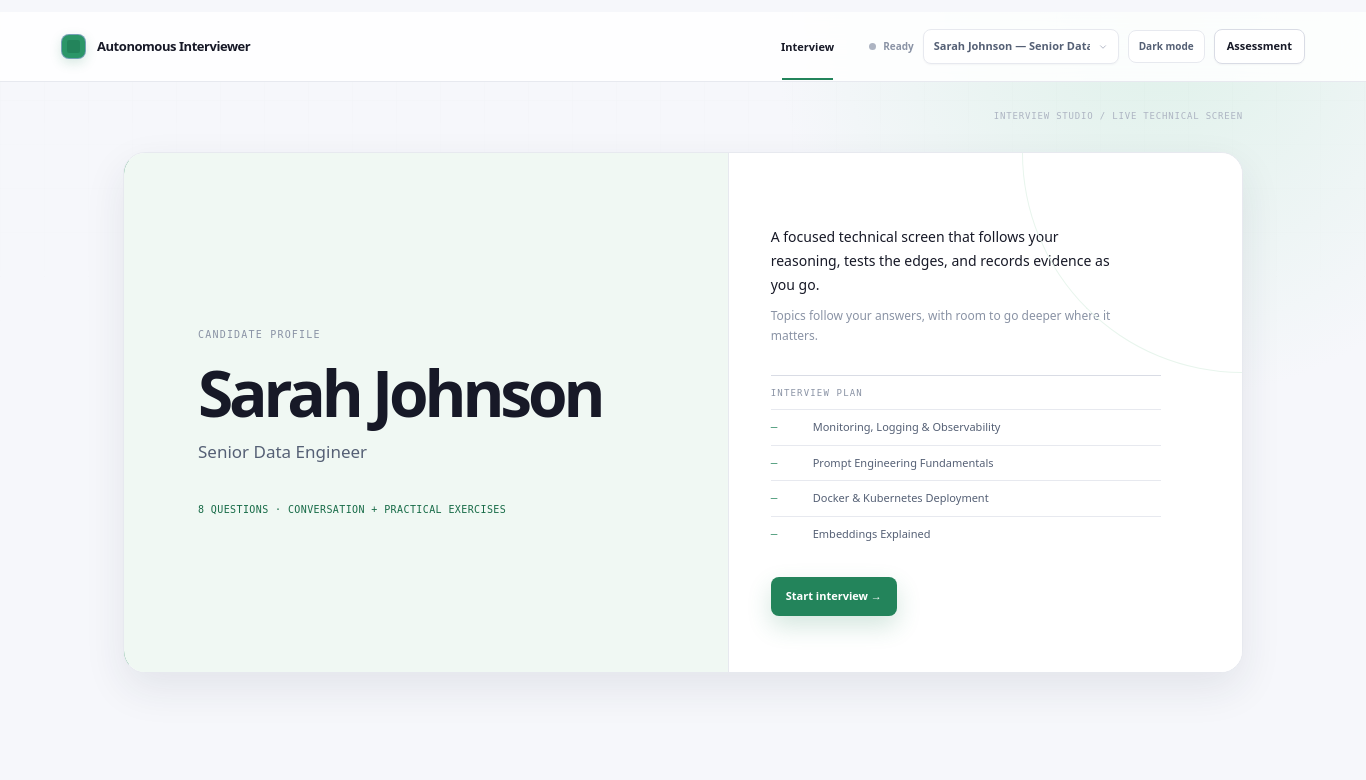
Scenario: Interview page controls › shows a start error on the briefing screen
The width and height of the screenshot is (1366, 780).
Click the button "Start interview →" at [834, 597], box [771,577,897,616]
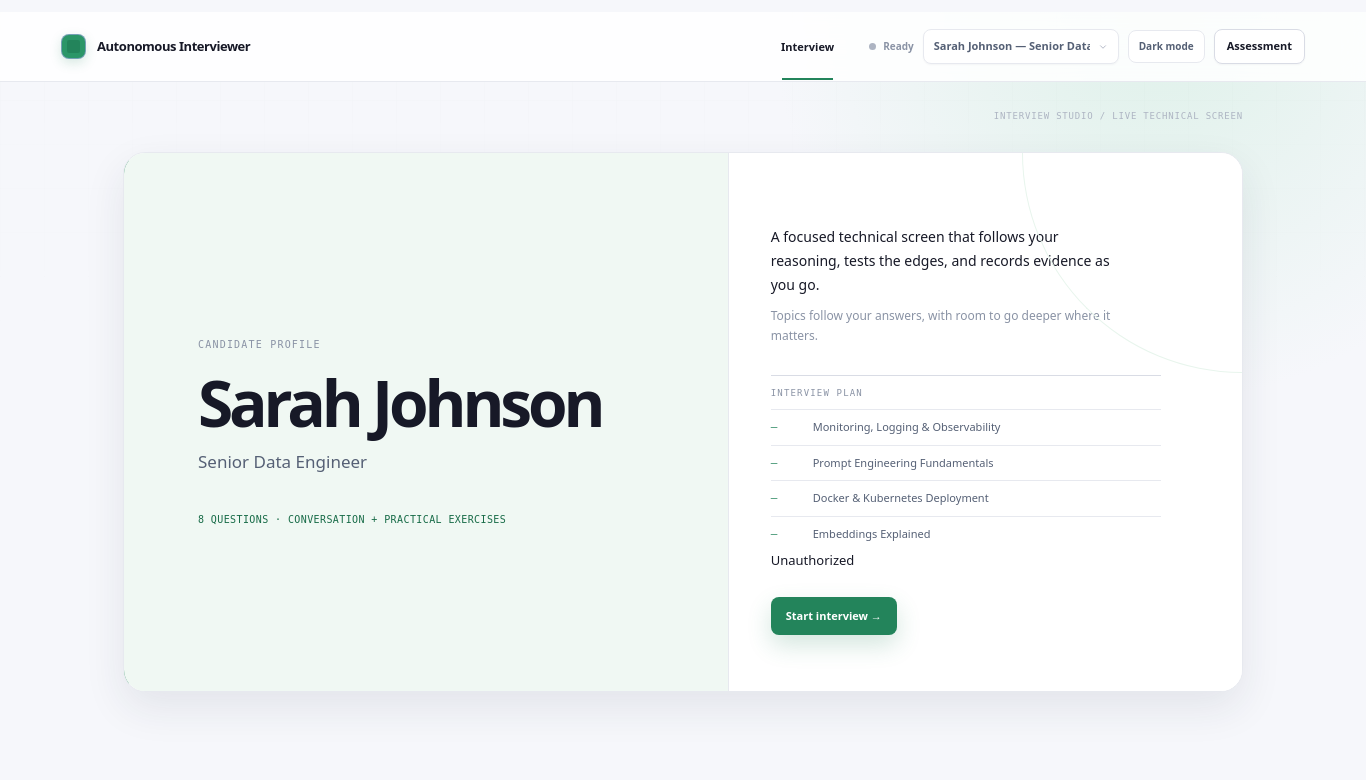
Check: the button "Start interview →" is enabled, box [771,597,897,635]
Check: the text "Unauthorized" is shown, box [771,551,854,569]
